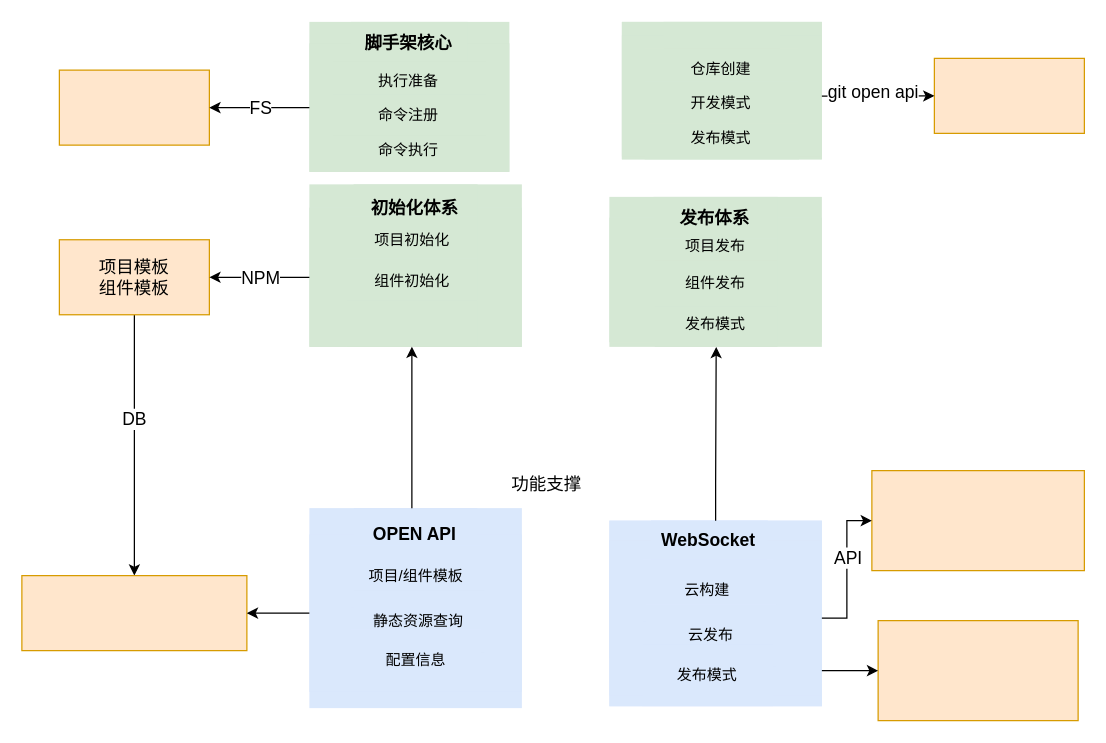
The diagram is 1106 pixels wide and 743 high, and some of its shapes have lost their labels. Here are the shapes that lost their labels. From the top down, the centre of each, then its label:
At point 721,34: "GIT 操作".
At point 133,107: "本地文件环境变量".
At point 1008,95: "代码仓库".
At point 411,323: "初始化模式".
At point 977,520: "OSS 前端静态资源 CDN 前端静态资源加速".
At point 134,612: "MySql 组件信息存储 MongoDB 项目信息存储".
At point 977,670: "服务端代码缓存 Redis发布任务缓存".
